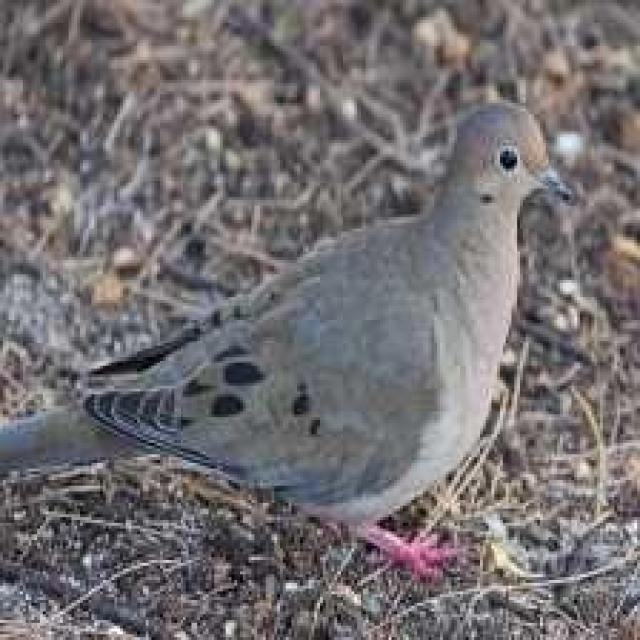bird: (5, 90, 571, 585)
